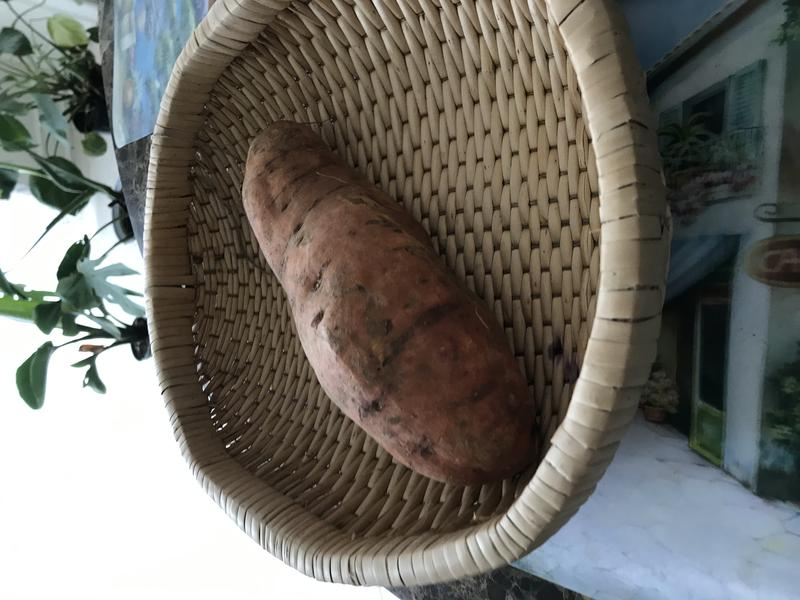sweet_potato: (228, 108, 545, 493)
